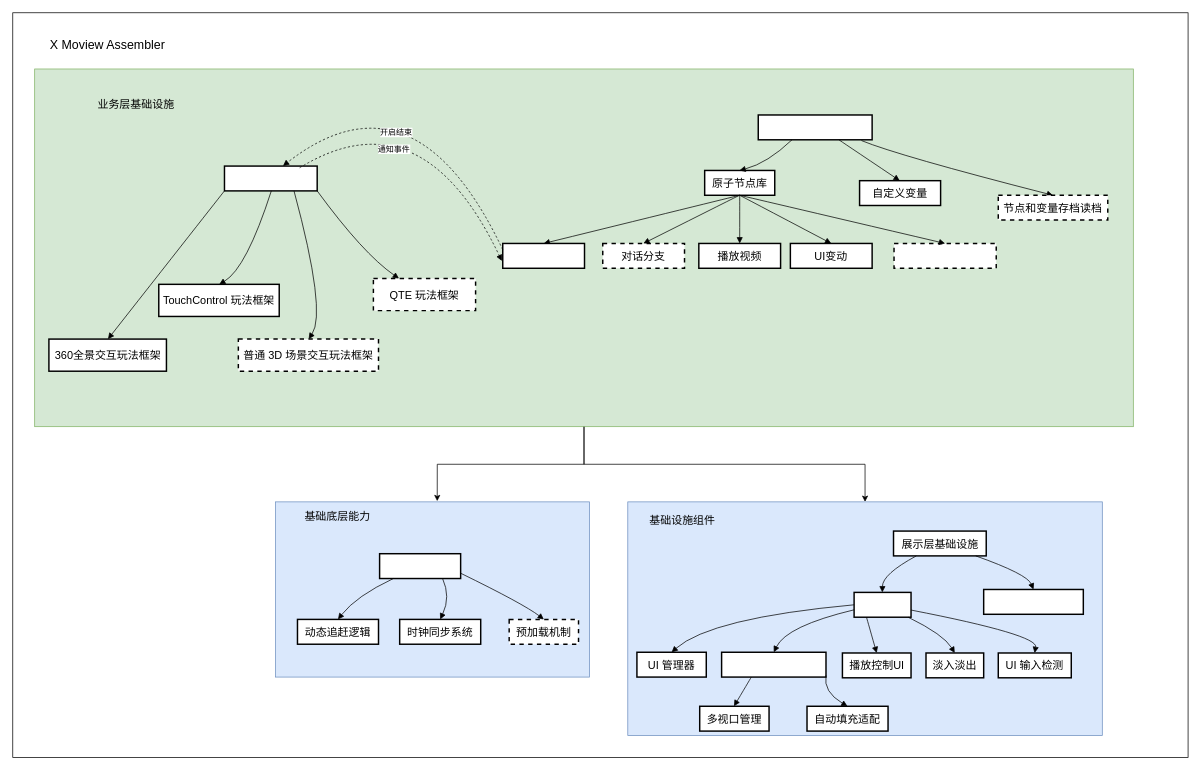
Some shapes in this 1201 by 770 pixel diagram are drawn without their labels. The shapes that lost their labels are listed below. From the top down, each one's centre as x and y in pixels, then its label:
At point 814,127: "FlowGraph流程编辑".
At point 270,178: "玩法框架".
At point 543,255: "开启玩法".
At point 945,255: "通用事件监听".
At point 420,566: "视频播放能力".
At point 882,604: "UI".
At point 1033,601: "360视频显示组件".
At point 773,664: "普通视频显示组件".
